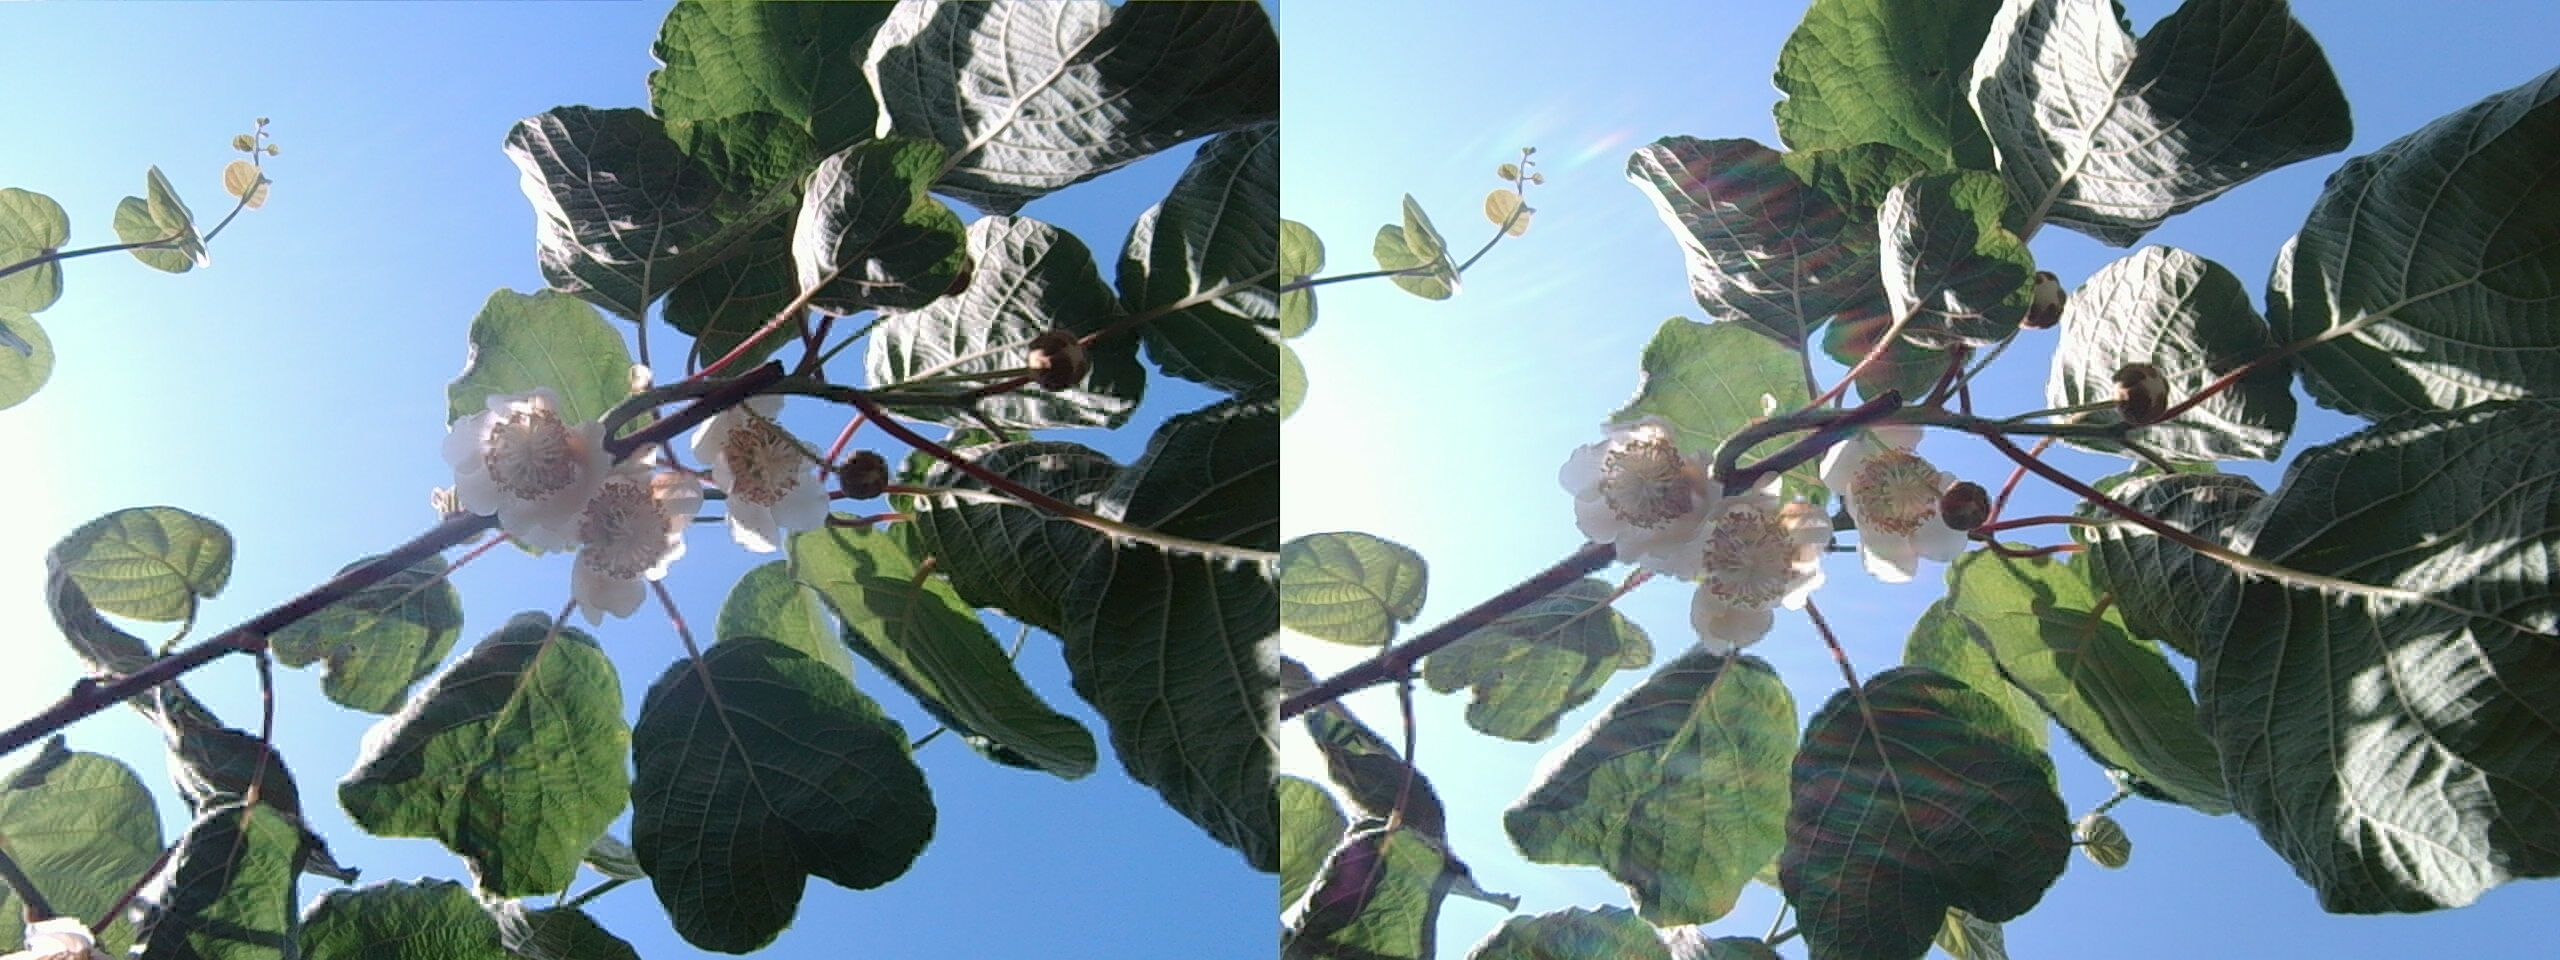flower: (434, 384, 717, 611), (1580, 439, 1851, 647), (1549, 416, 1744, 576), (1827, 442, 1997, 575)
